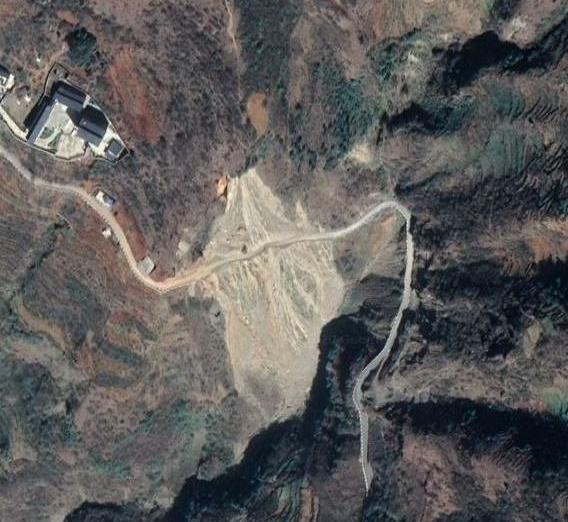slope: (191, 239, 345, 423), (173, 164, 320, 280)
